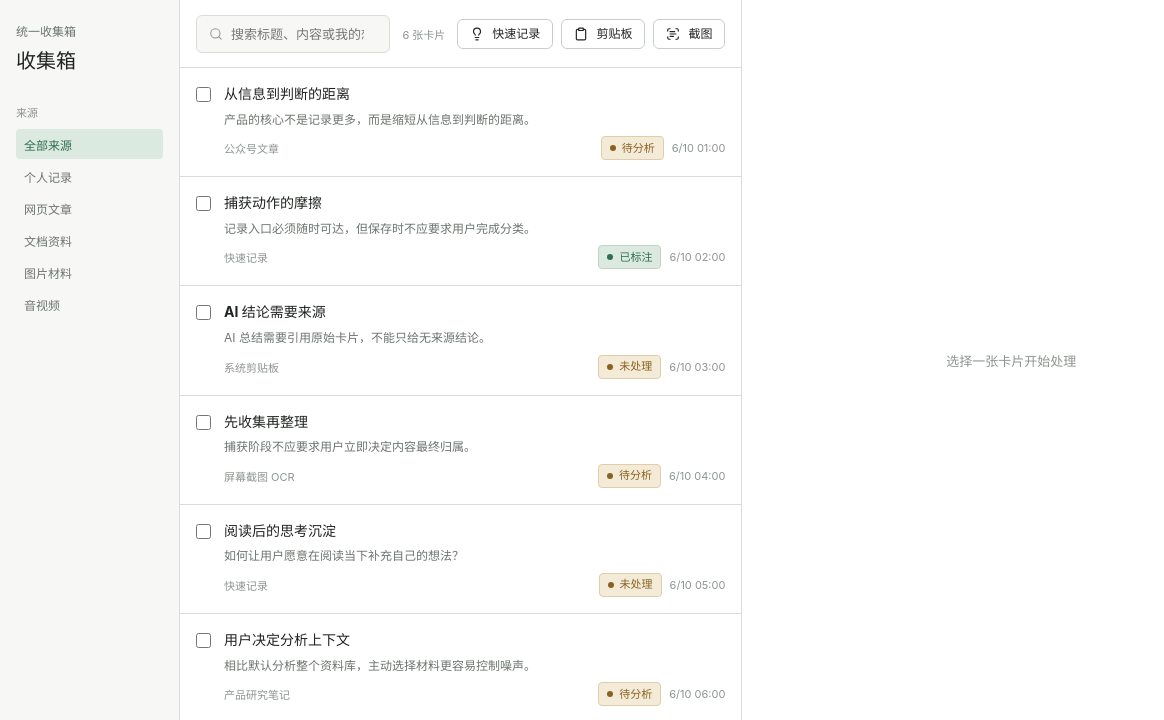
InboxPage › searches card text and opens the seeded note
This screenshot has width=1164, height=720.
In the search field with placeholder "搜索标题、内容或我的想法": (304, 34) x1=231 y1=16 x2=377 y2=52, type "判断"
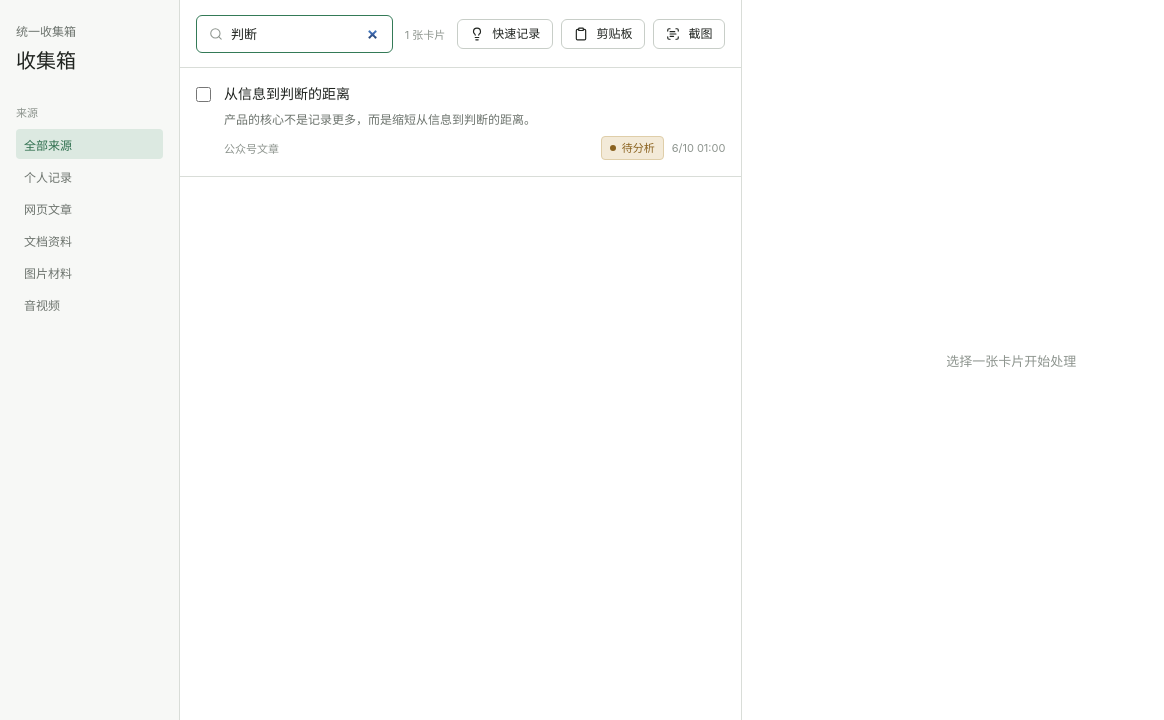
Now the button "捕获动作的摩擦" is gone
Click the text "从信息到判断的距离": (287, 94) x1=224 y1=85 x2=350 y2=102
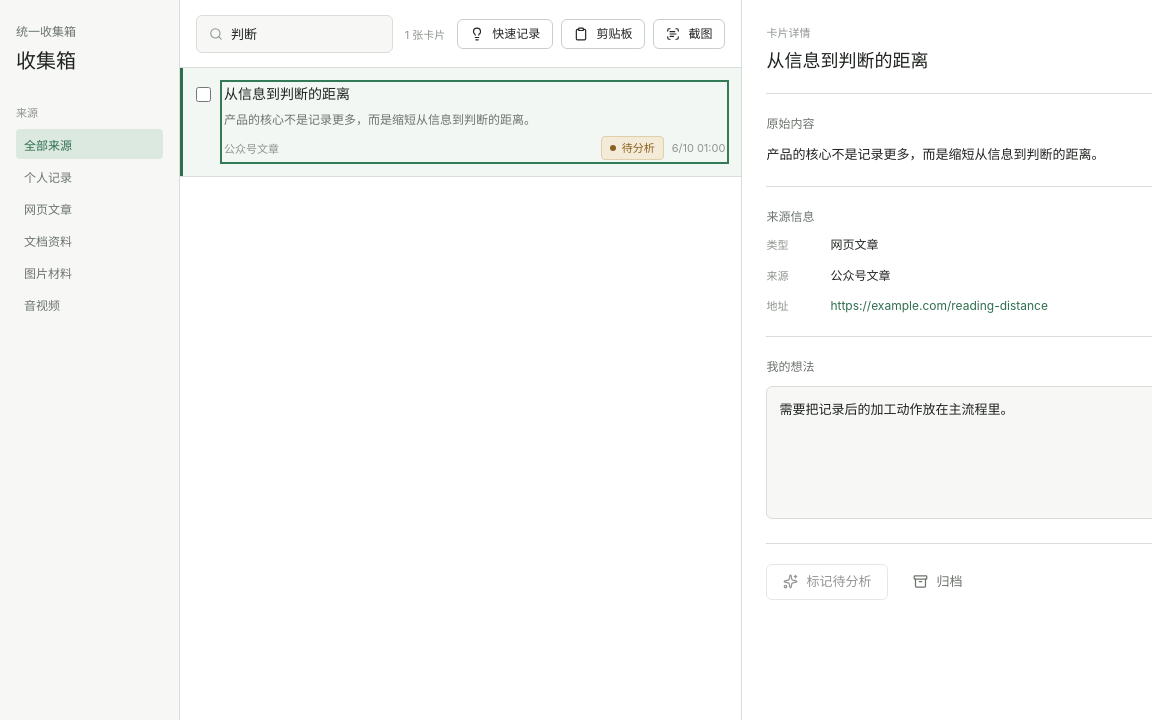
Now the text "网页文章" is shown, box x1=830 y1=237 x2=878 y2=252
Now the text "公众号文章" below "类型" is shown, box x1=830 y1=268 x2=890 y2=282
